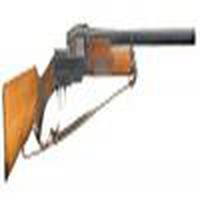gun: (4, 22, 197, 173)
